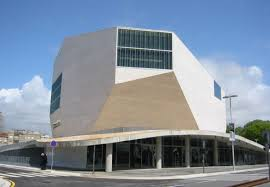musica: (49, 25, 227, 138)
